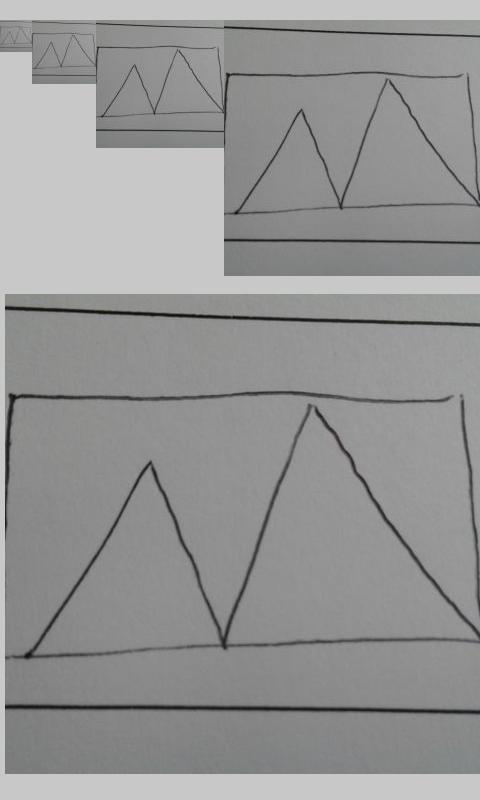image_view: (9, 387, 478, 666), (228, 68, 480, 221), (97, 42, 225, 119), (33, 32, 96, 70), (1, 25, 32, 45)
